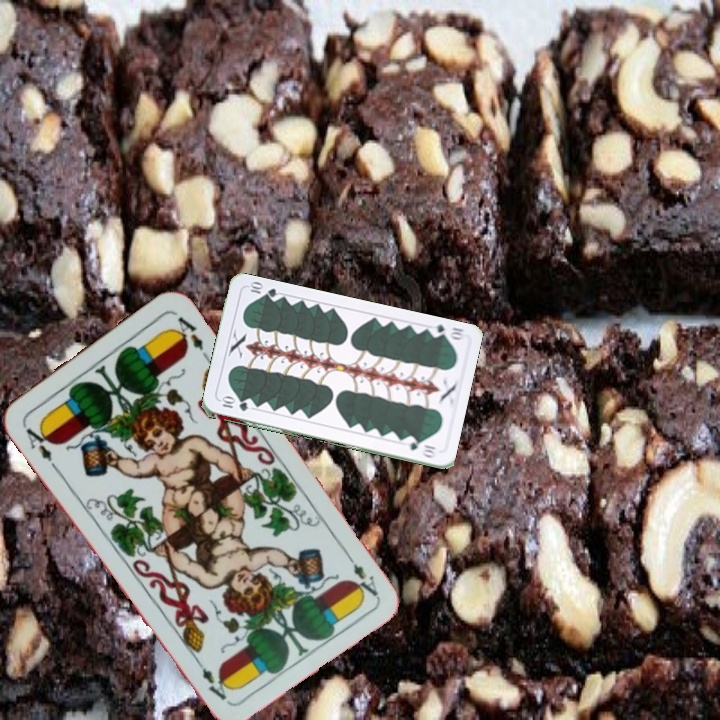EA: (340, 547, 381, 602), (18, 420, 59, 471)
G10: (425, 320, 466, 343), (217, 395, 251, 414)
